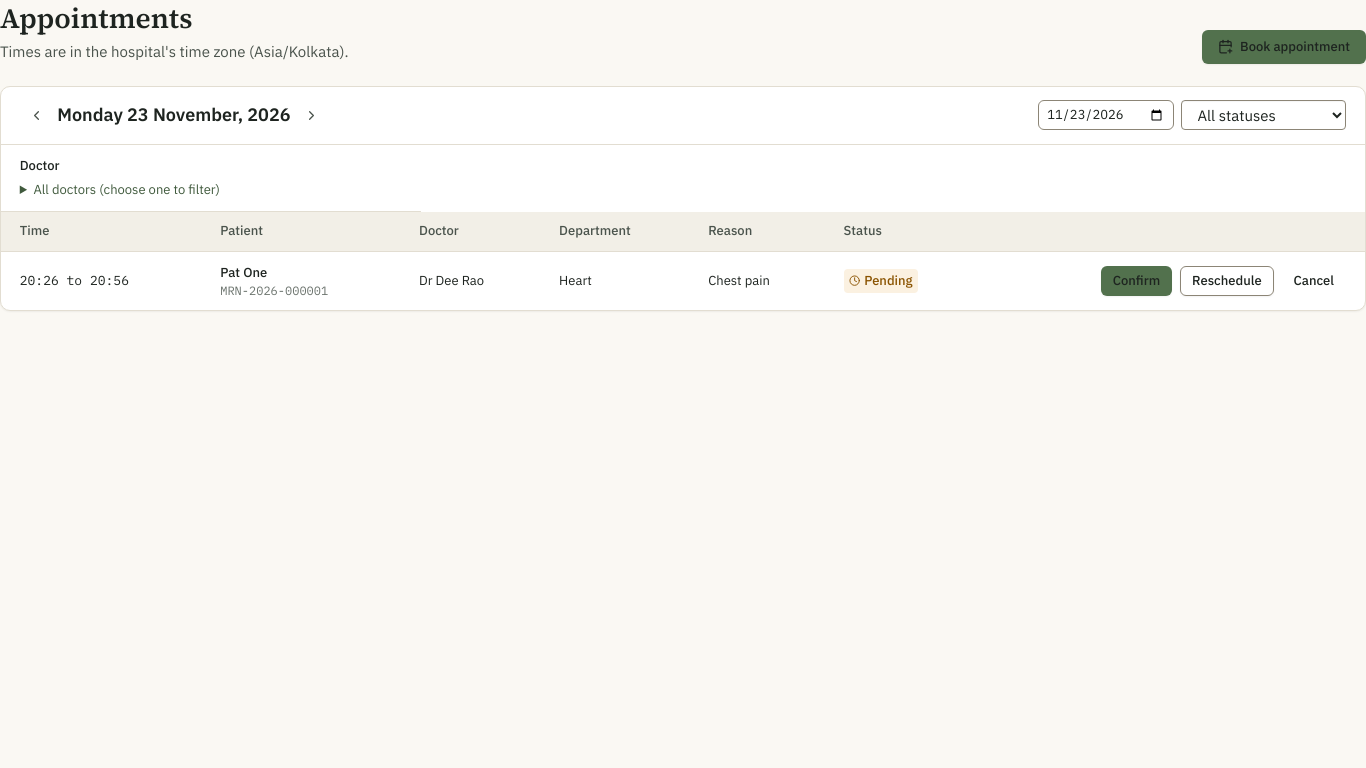
Scenario: staff agenda › reception lists the day and confirms; cancelling requires a reason
Later steps or results of the test are not shown.
Expected: the text "MRN-2026-000001" is shown, left=220, top=283, right=328, bottom=298
Click the button "Confirm": [1136, 281] box left=1100, top=266, right=1172, bottom=296
Click the button "Cancel": [1314, 281] box left=1281, top=266, right=1346, bottom=296
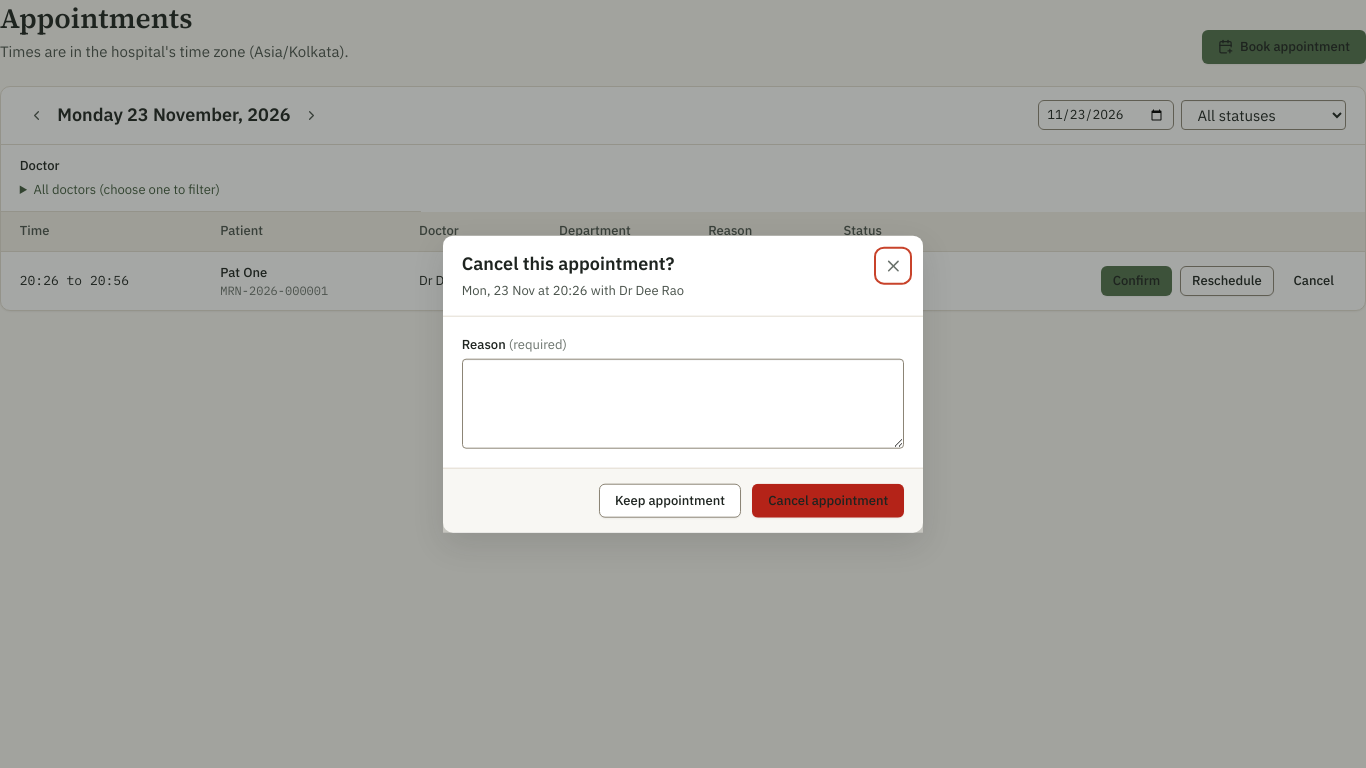
Click the button "Cancel appointment": [828, 500] box left=752, top=484, right=904, bottom=517
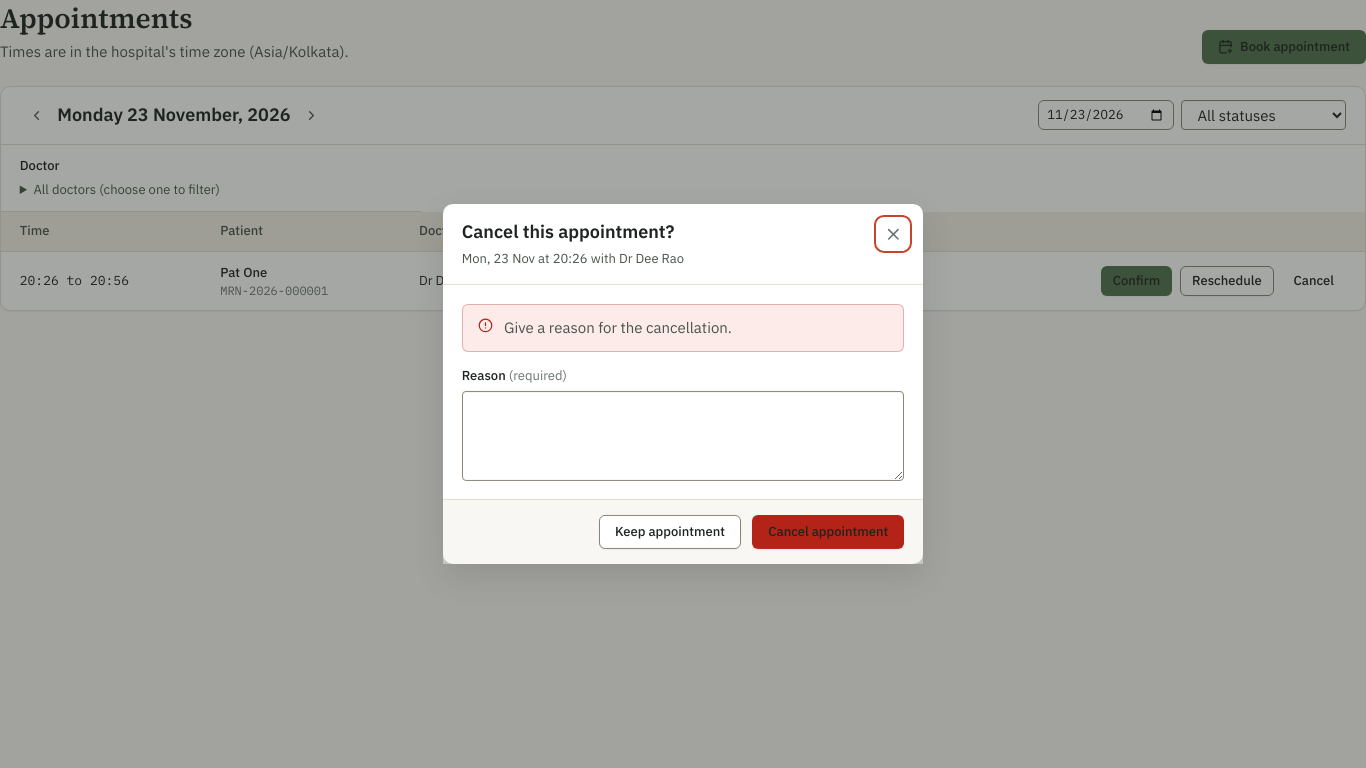
Expected: the text "Give a reason for the cancellation." is shown, left=504, top=316, right=732, bottom=340
